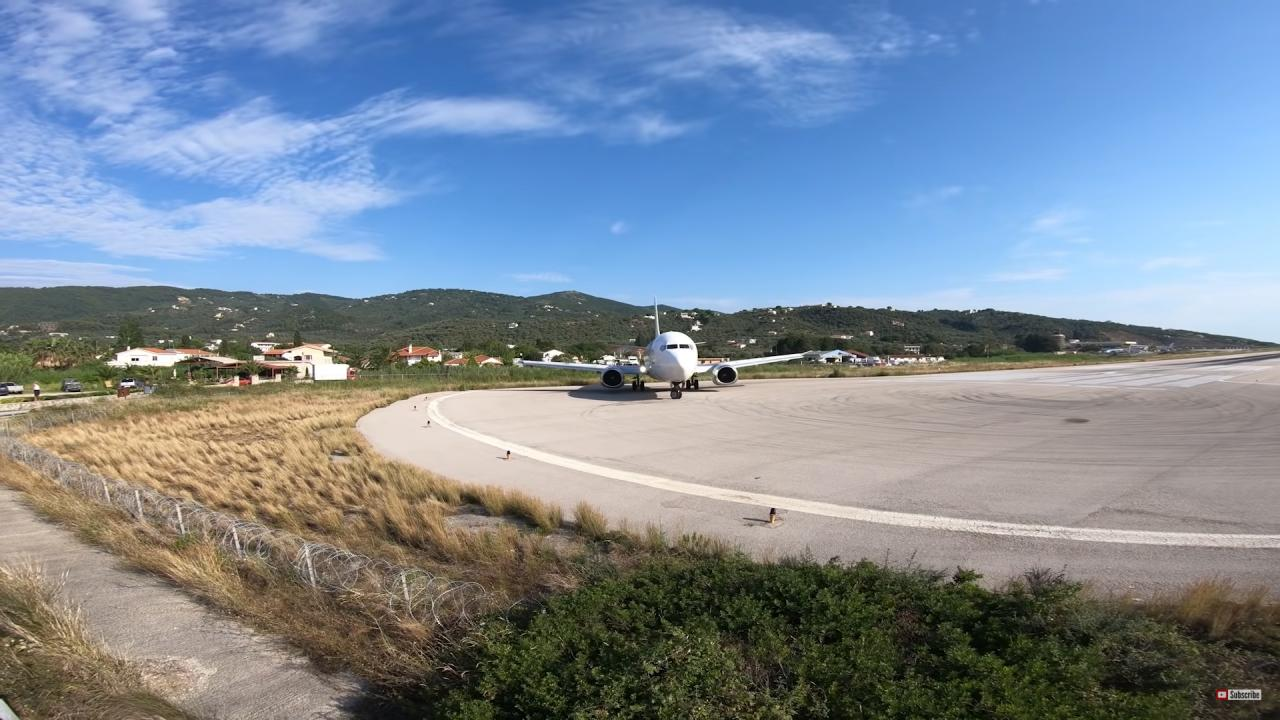Airplane: (509, 286, 818, 407)
